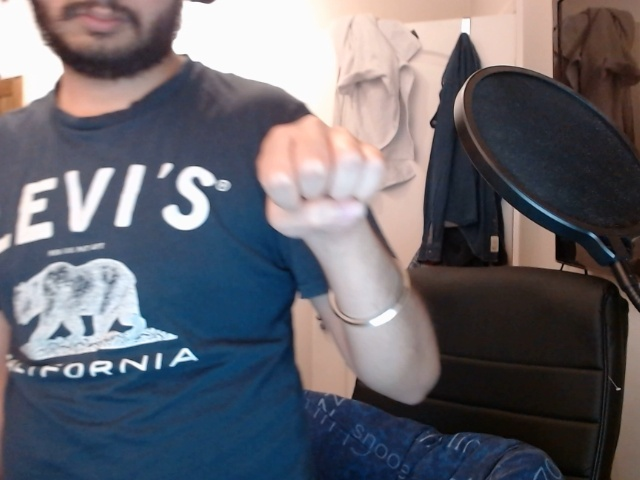Yes: (247, 112, 398, 245)
